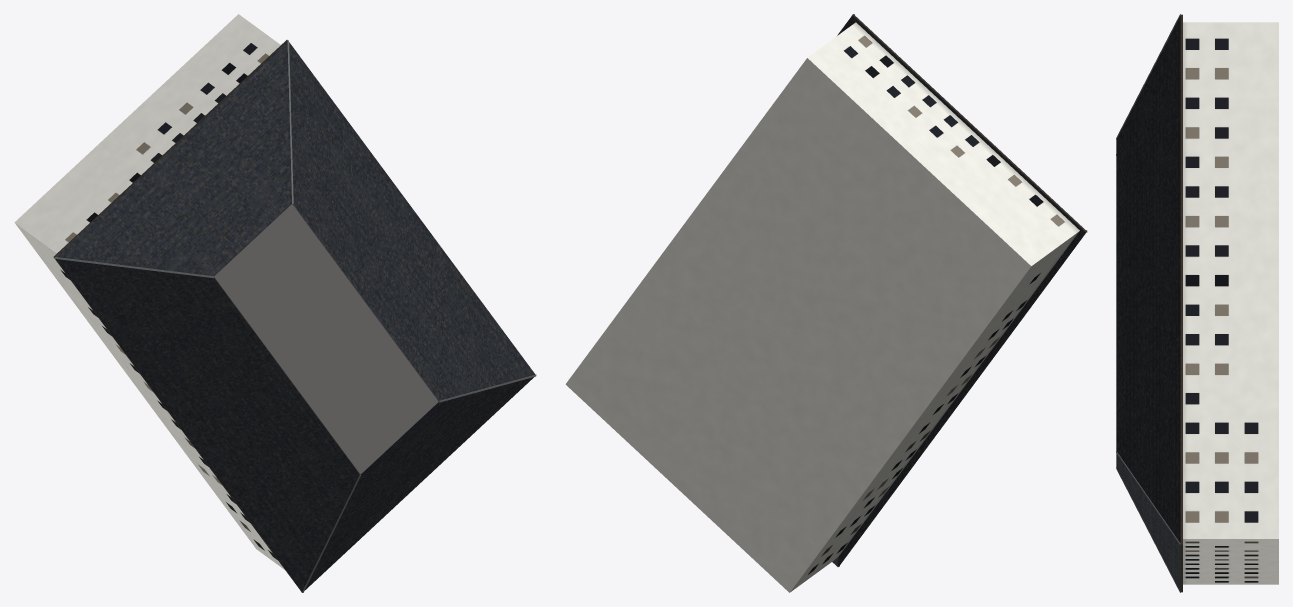
The model's file is house_b0013.obj.
3 renders of one model, left to right at view 1: azimuth 30°, elevation 25°; view 2: azimuth 150°, elevation 25°; view 3: azimuth 270°, elevation 25°, orthographic. The views are drawn at different scales.
Parts seen in each view (by area): view 1: house_b0013; view 2: house_b0013; view 3: house_b0013.
Part boxes in pixels (bbox=[...]): house_b0013: bbox=[14, 14, 536, 592]; house_b0013: bbox=[565, 14, 1087, 592]; house_b0013: bbox=[1116, 14, 1278, 592].
Size of the model in its own units: 57.96 by 63.91 by 16.52.
1 material, 1 textured.
